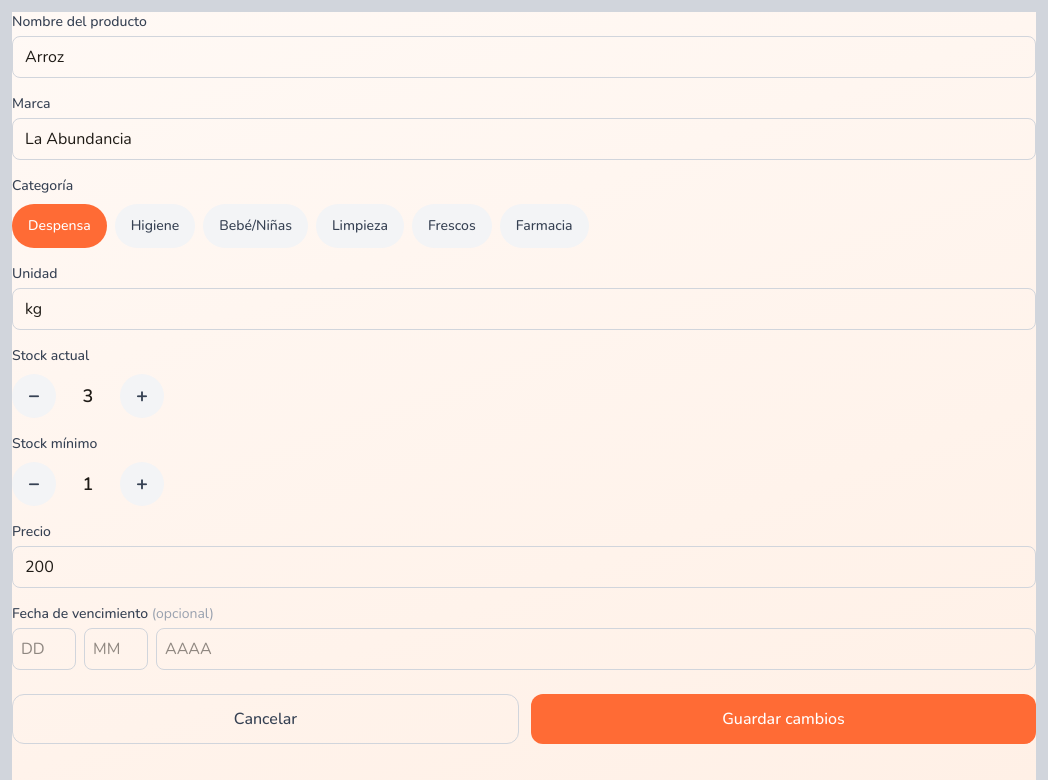
EditForm › Guardar cambios button is disabled when name is empty
Clear the field showing "Arroz" at {"x": 524, "y": 57}, box [12,36,1036,78]
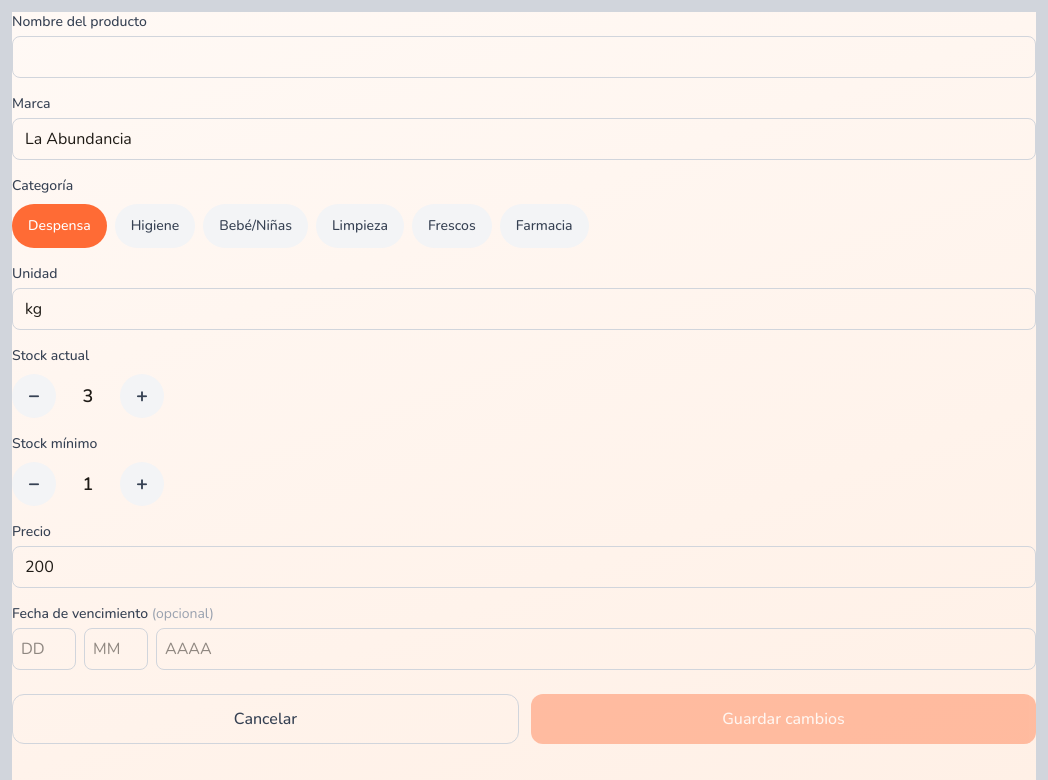
Expected: the button "Guardar cambios" is disabled, [531,694,1036,744]
